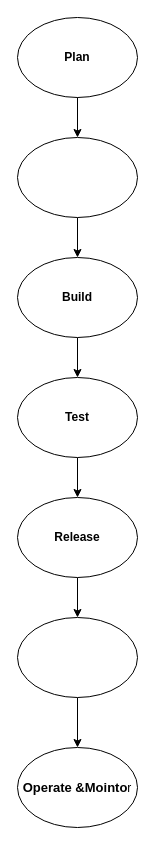
Some shapes in this 155 by 845 pixel diagram are drawn without their labels. The centre of each missing label's shape, as x and y in pixels:
Deploy: the point at 77,657
Develop: the point at 77,177
